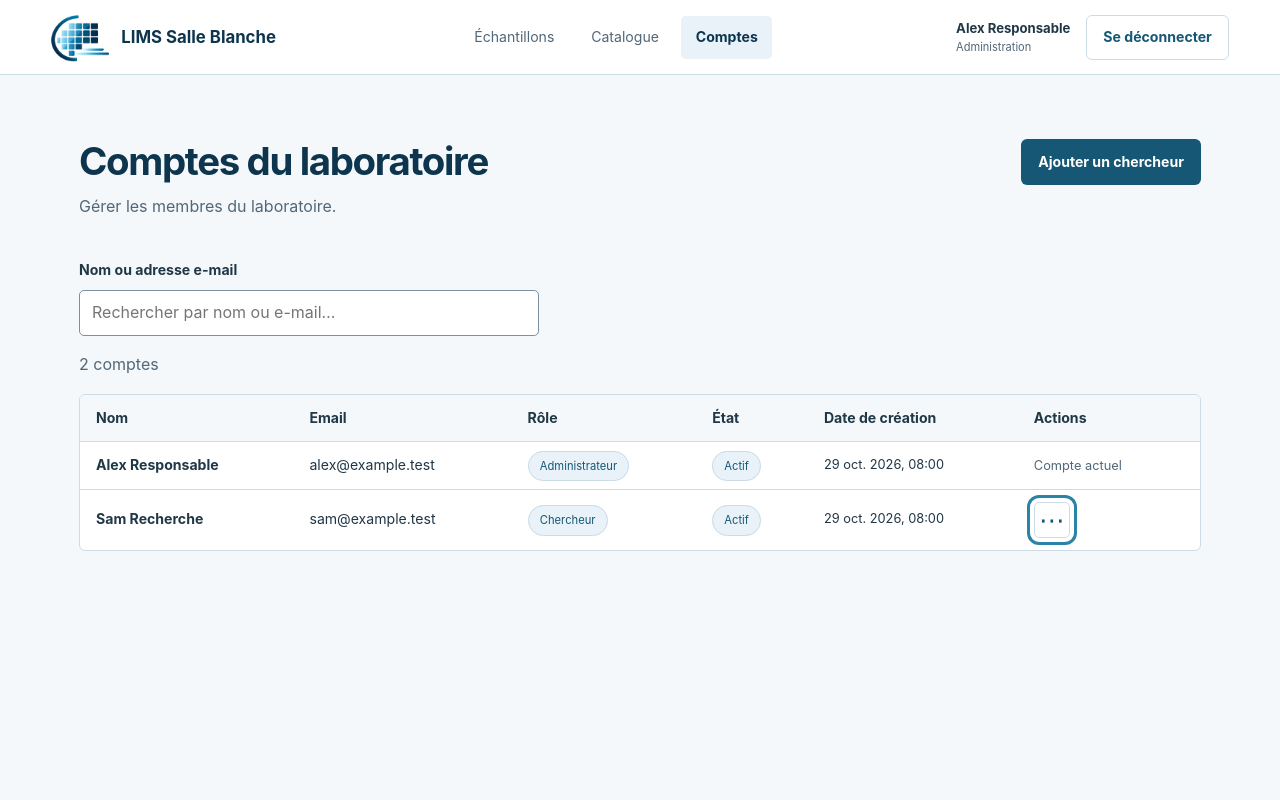
Test: Administration des comptes › ouvre le menu au clavier, le ferme par Échap/clic extérieur et rend le focus sans modifier de compte
Press Arrowdown
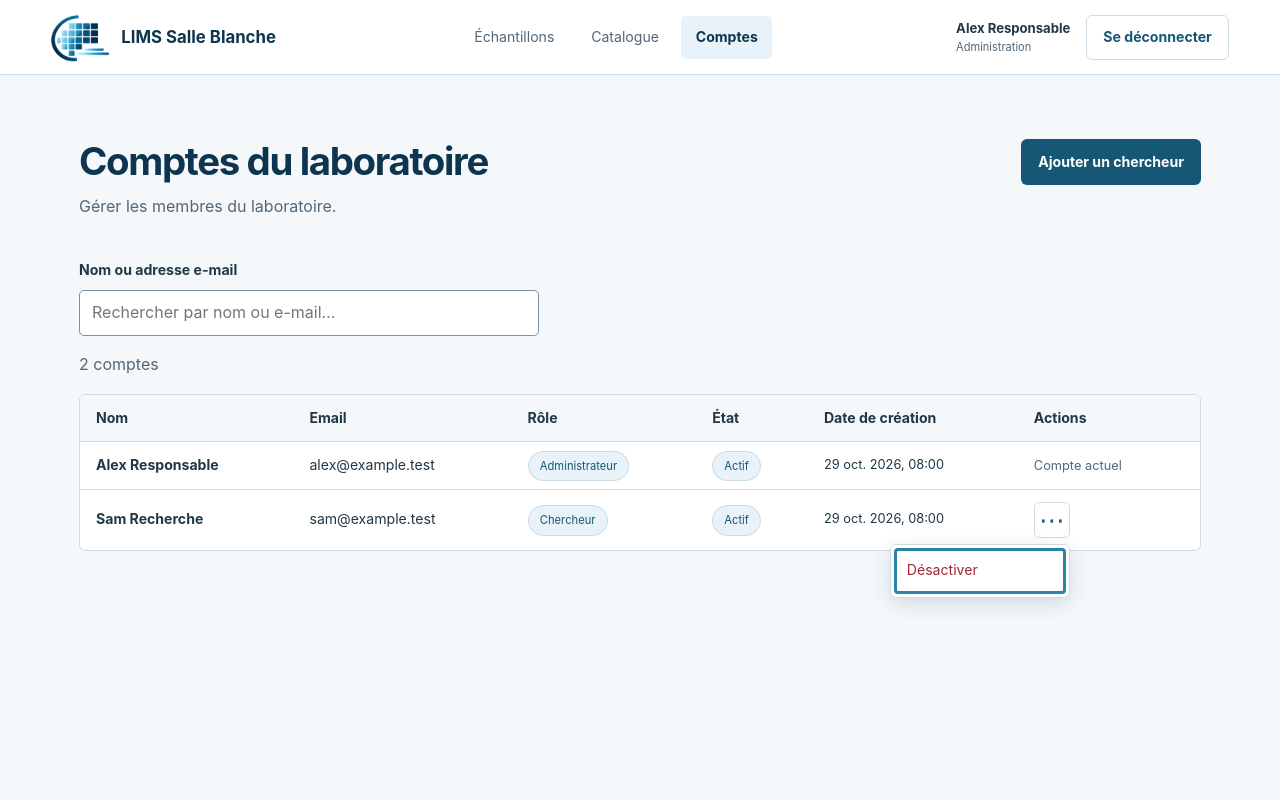
Press Escape
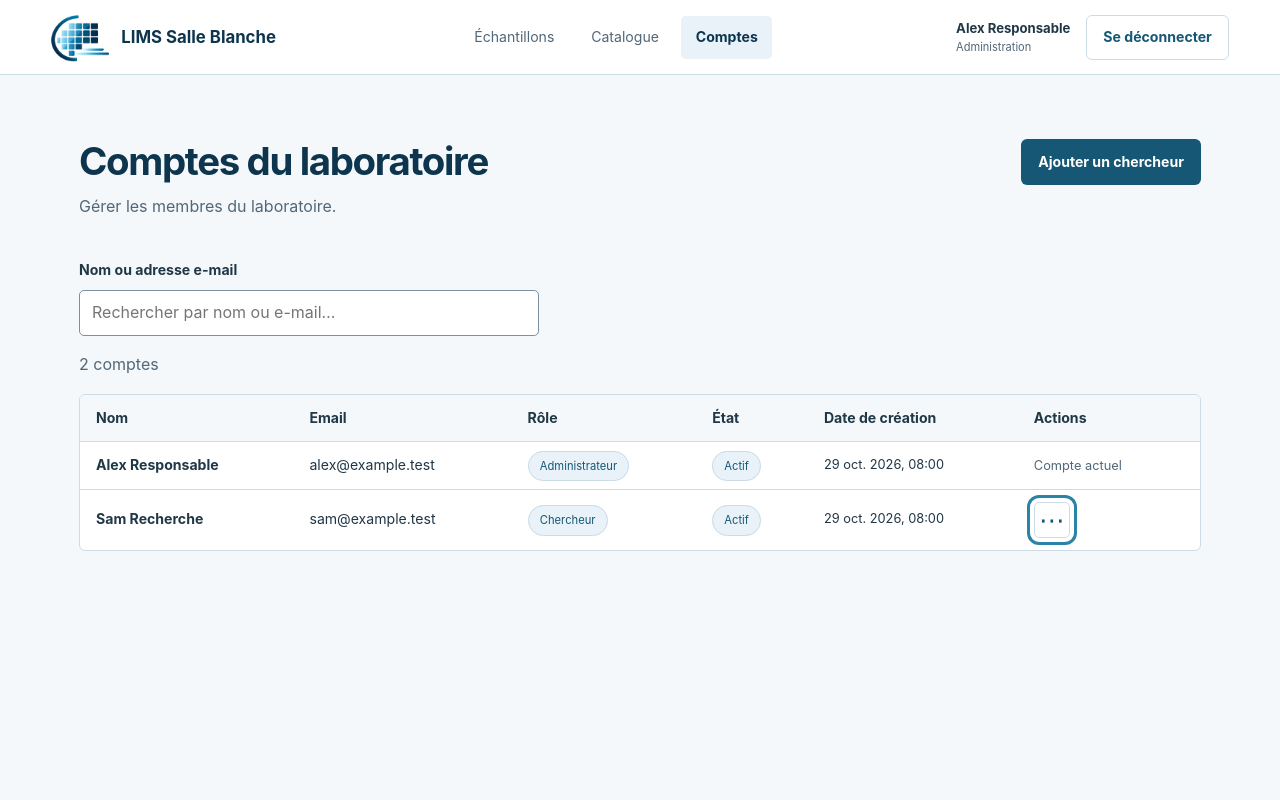
Expected: the menu is gone
Press Enter
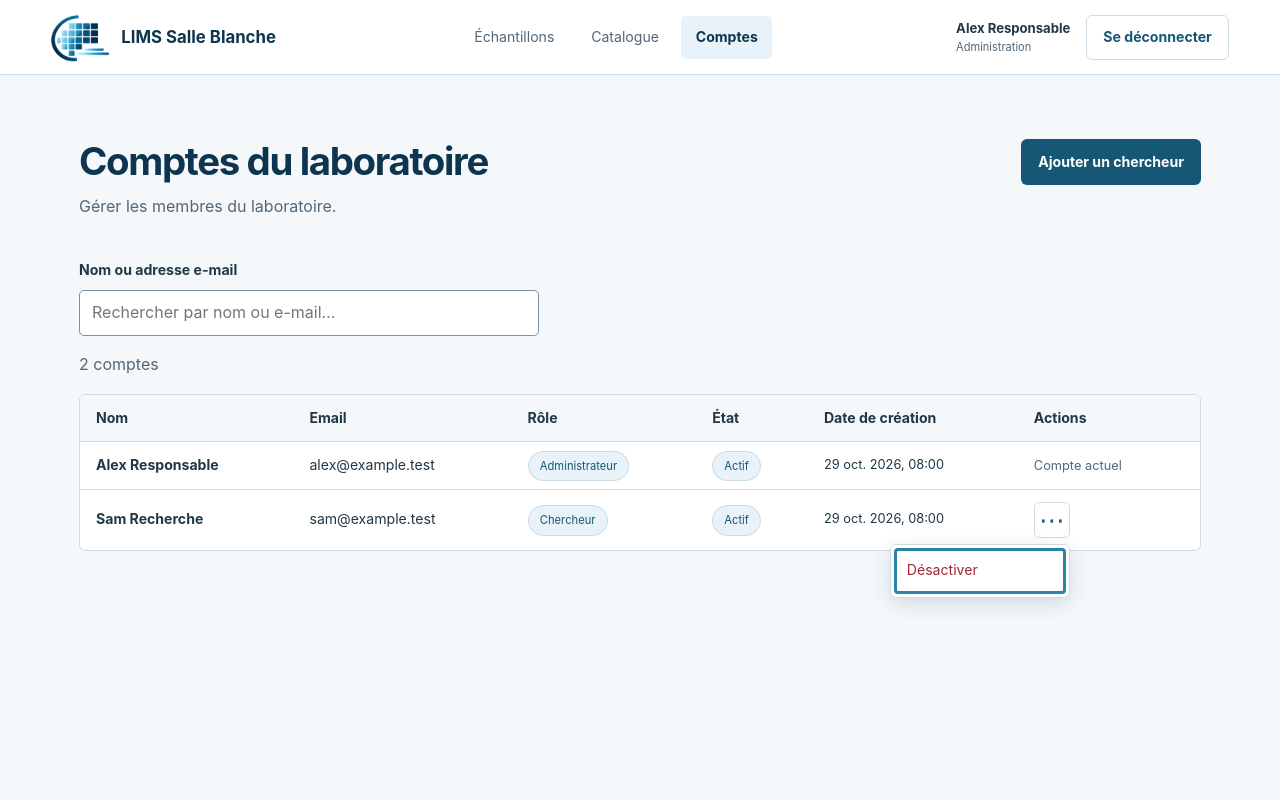
Click the search field with placeholder "Rechercher par nom ou e-mail…": (309, 313) top-left (79, 290), bottom-right (539, 336)
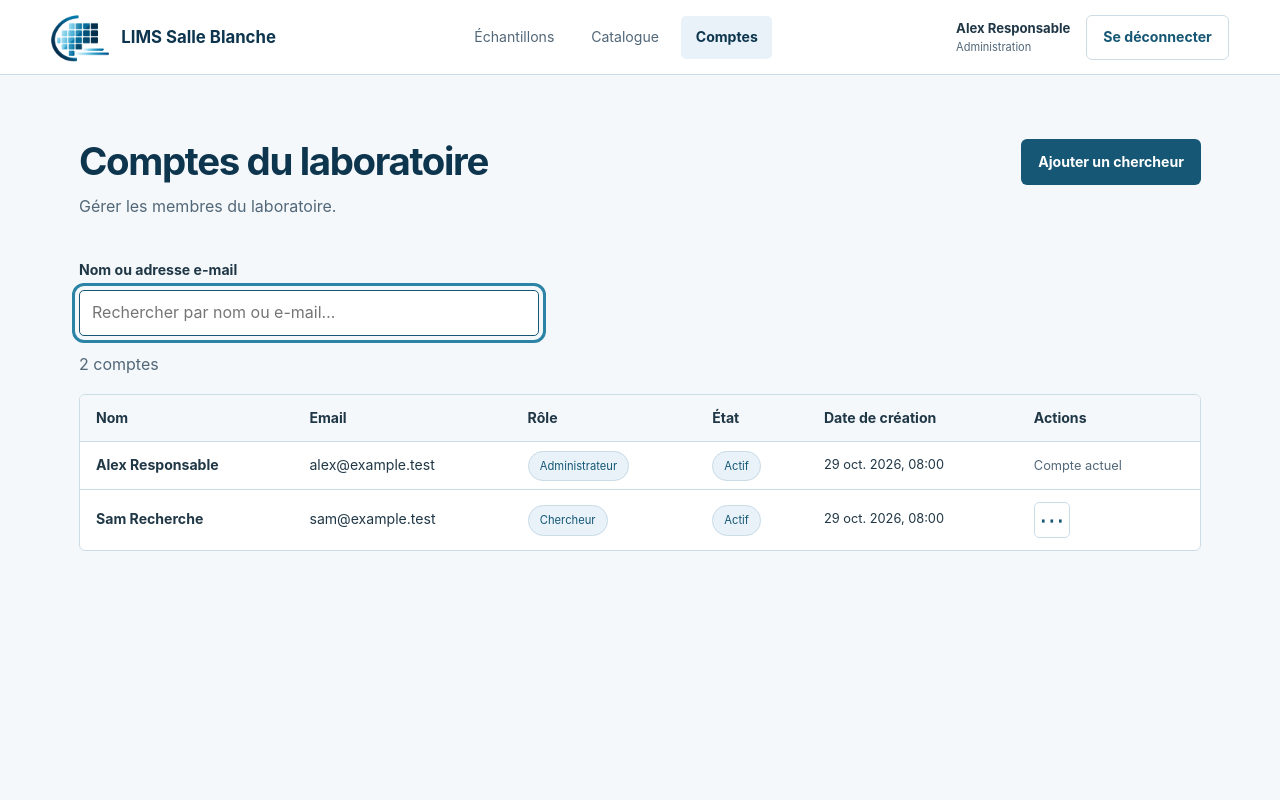
Expected: the menu is gone
